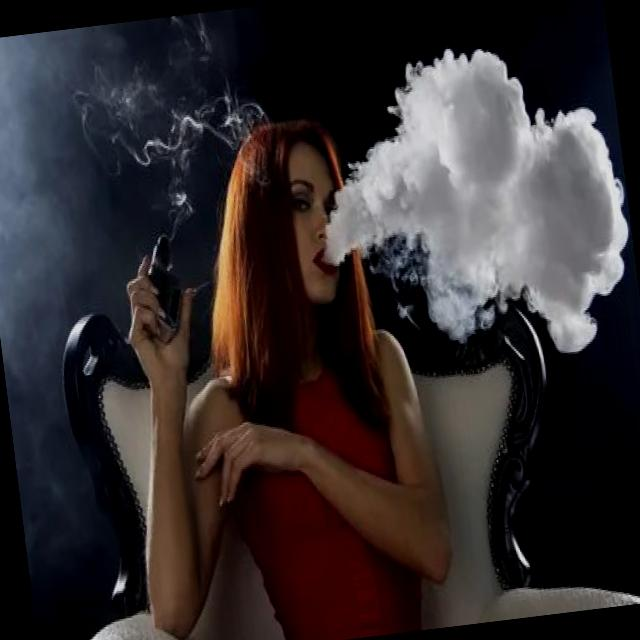smoke: (132, 220, 193, 346)
